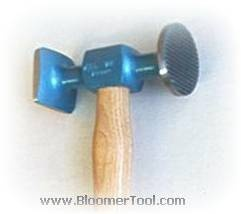hammer: (31, 22, 200, 191)
